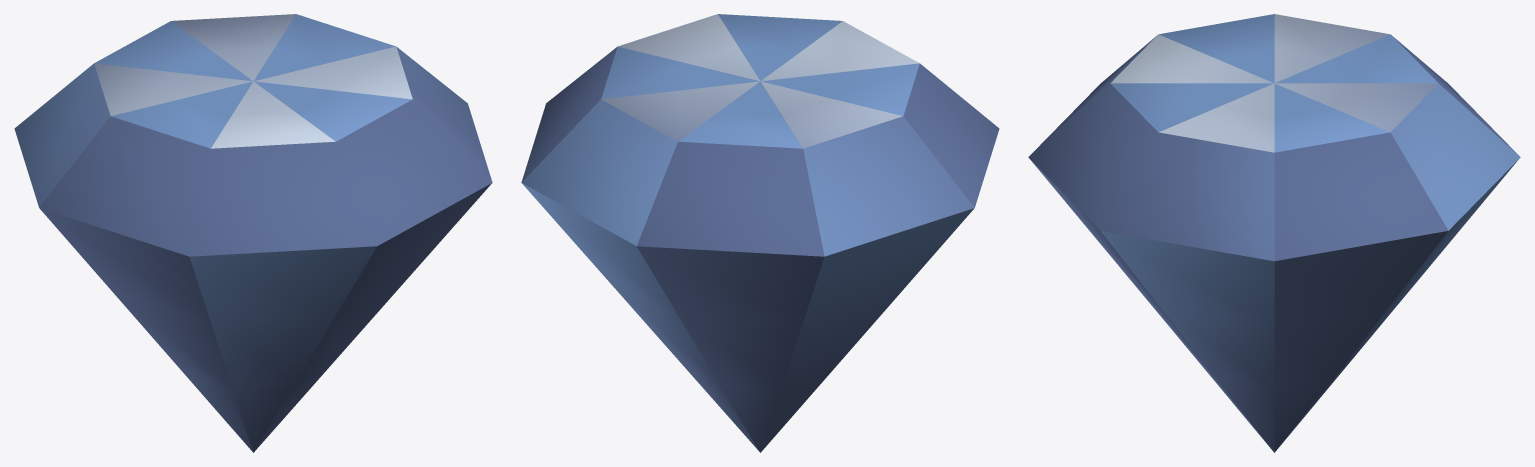
File: diamond.fbx
The picture shows the model from 3 angles, left to right: view 1: azimuth 30°, elevation 25°; view 2: azimuth 150°, elevation 25°; view 3: azimuth 270°, elevation 25°; orthographic projection.
Visible parts, largest first — view 1: diamond; view 2: diamond; view 3: diamond.
Boxes of the visible parts, box(x1,y1,x2,y2) form: diamond: box(14, 14, 492, 452); diamond: box(521, 14, 999, 452); diamond: box(1028, 14, 1520, 452).
Bounding box in the file's own units: 200 × 166 × 200.
1 material, 1 textured.
